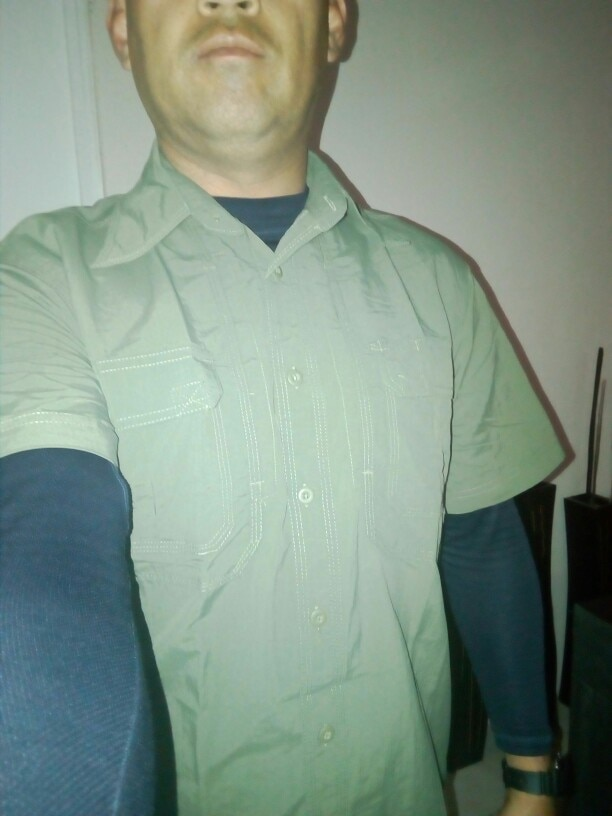shirts: (26, 160, 569, 816)
